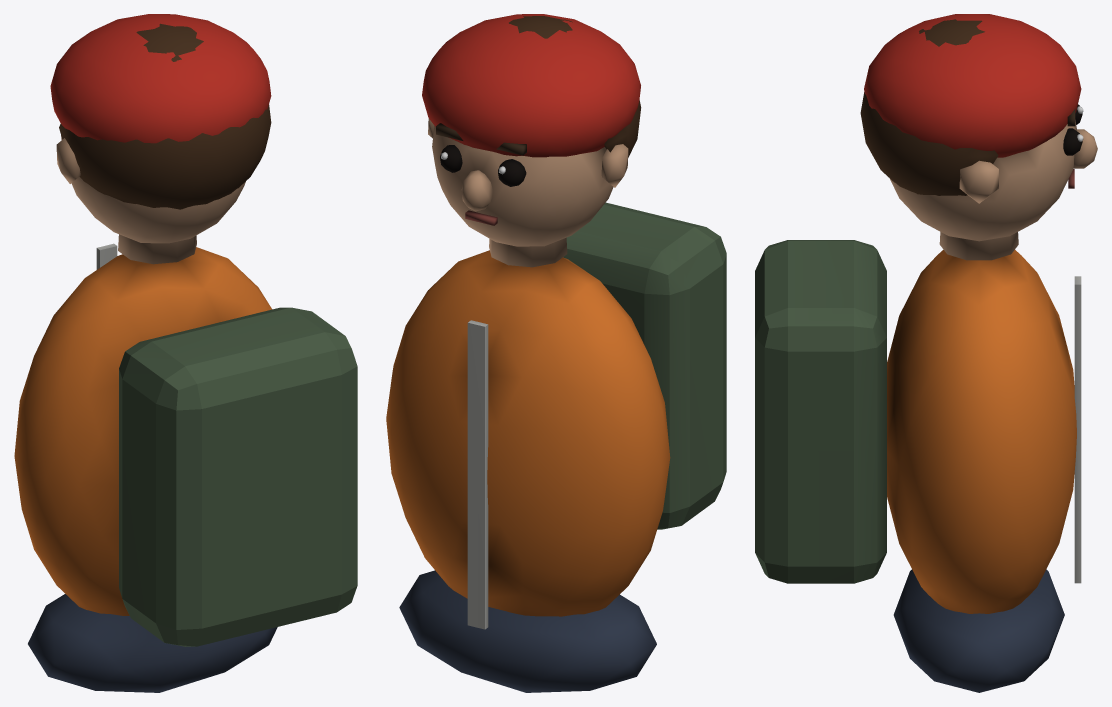
The model's file is traveller_body.glb.
3 renders of one model, left to right at view 1: azimuth 30°, elevation 25°; view 2: azimuth 150°, elevation 25°; view 3: azimuth 270°, elevation 25°, orthographic. The views are drawn at different scales.
Parts seen in each view (by area): view 1: torso; view 2: torso; view 3: torso.
Boxes of the visible parts, bbox=[...] form: torso: bbox=[14, 14, 357, 692]; torso: bbox=[386, 14, 726, 692]; torso: bbox=[755, 14, 1097, 692].
Size of the model in its own units: 0.46 by 1.07 by 0.52.
